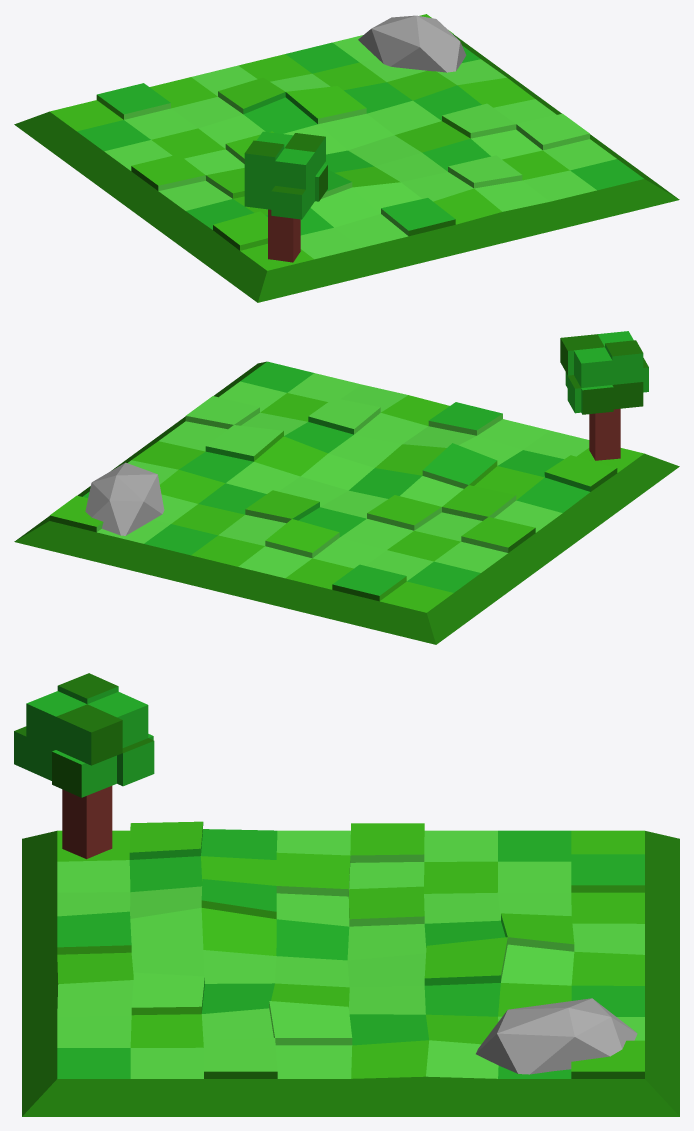
The model's file is des4.fbx.
The picture shows the model from 3 angles, top to bottom: view 1: azimuth 30°, elevation 25°; view 2: azimuth 150°, elevation 25°; view 3: azimuth 270°, elevation 25°; orthographic projection. The views are drawn at different scales.
Visible parts, largest first — view 1: land5; view 2: land5; view 3: land5.
Boxes of the visible parts, left/top/right/bottom form: land5: left=14, top=14, right=679, bottom=302; land5: left=14, top=331, right=679, bottom=644; land5: left=14, top=673, right=679, bottom=1116.
Bounding box in the file's own units: 101 × 29.24 × 102.
